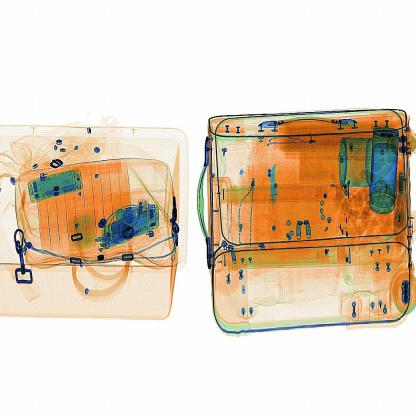wrench: (260, 151, 290, 241)
